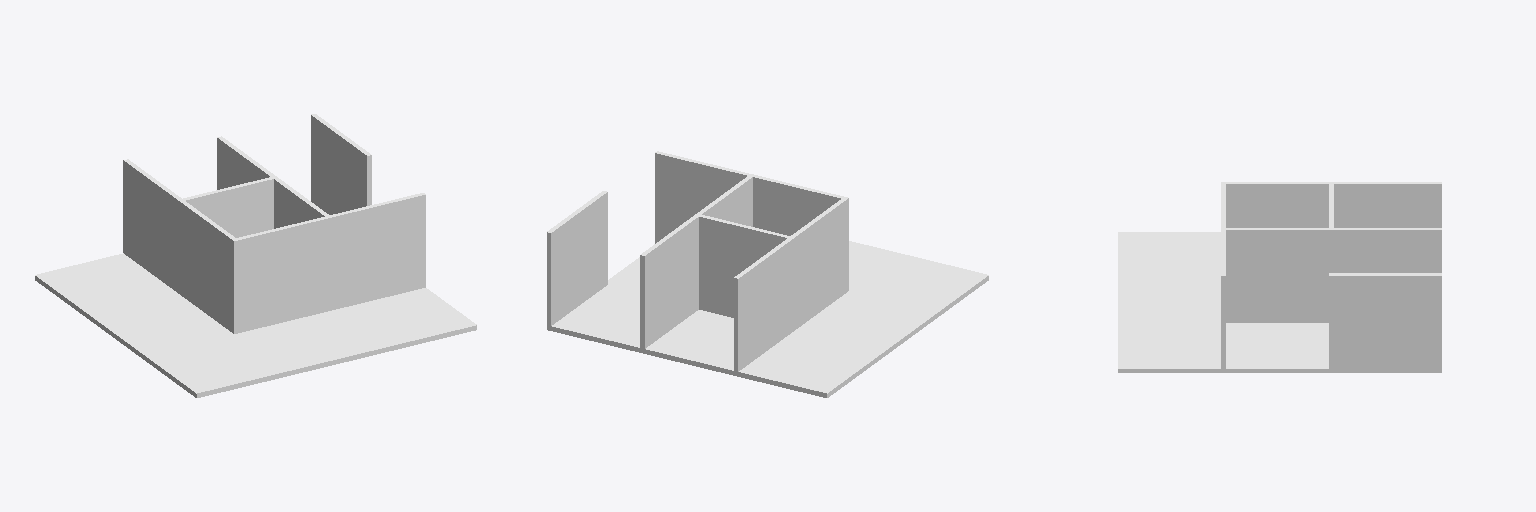
The model's file is level_maze-9.obj.
The picture shows the model from 3 angles: view 1: azimuth 30°, elevation 25°; view 2: azimuth 150°, elevation 25°; view 3: azimuth 270°, elevation 25°; orthographic projection.
Parts seen in each view (by area): view 1: level_maze-9; view 2: level_maze-9; view 3: level_maze-9.
Part boxes in pixels (left/top/right/bottom): level_maze-9: left=35, top=114, right=476, bottom=397; level_maze-9: left=547, top=151, right=988, bottom=397; level_maze-9: left=1118, top=182, right=1441, bottom=372.
Size of the model in its own units: 60 by 20 by 60.